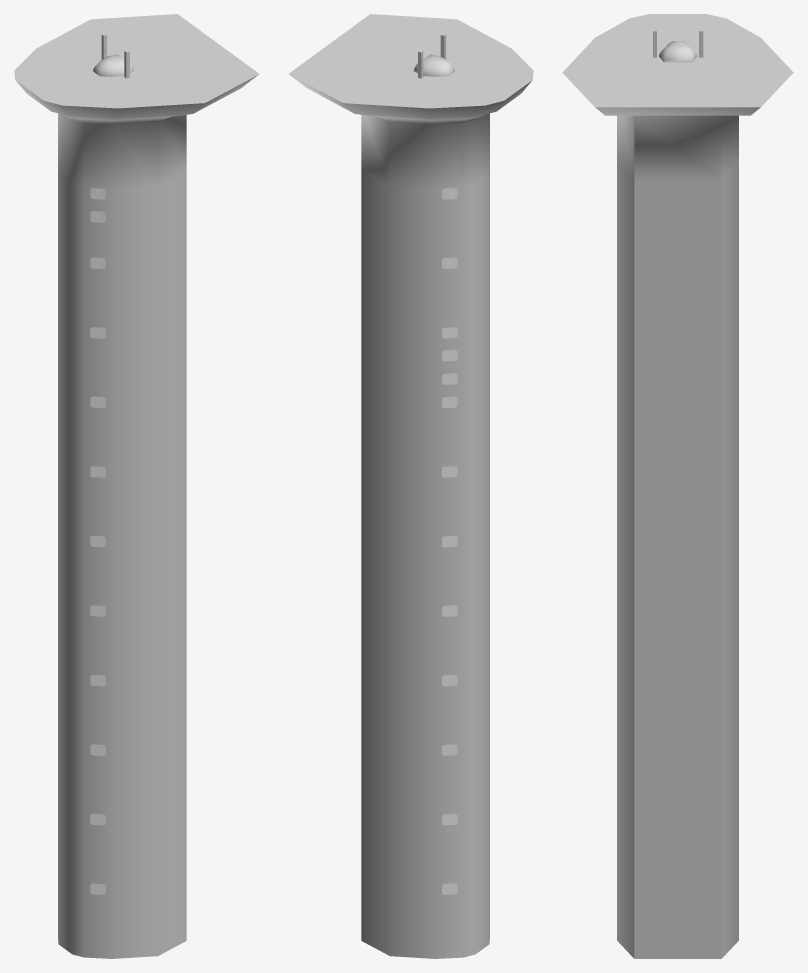
The model's file is fondo_edificioD.fbx.
3 renders of one model, left to right at view 1: azimuth 30°, elevation 25°; view 2: azimuth 150°, elevation 25°; view 3: azimuth 270°, elevation 25°, orthographic.
Visible parts, largest first — view 1: edificioA.003; view 2: edificioA.003; view 3: edificioA.003.
Part boxes in pixels (x1,y1,x2,y2): edificioA.003: (14, 14, 258, 958); edificioA.003: (289, 14, 533, 958); edificioA.003: (562, 14, 793, 958).
Size of the model in its own units: 760 by 3429 by 795.
